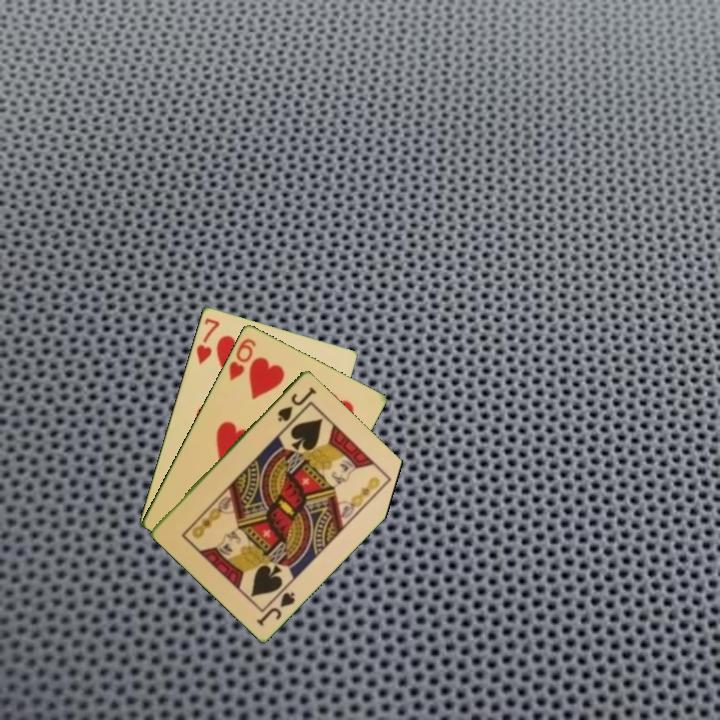6h: (225, 334, 259, 383)
7h: (193, 314, 222, 367)
Js: (253, 588, 298, 629), (274, 383, 318, 424)
